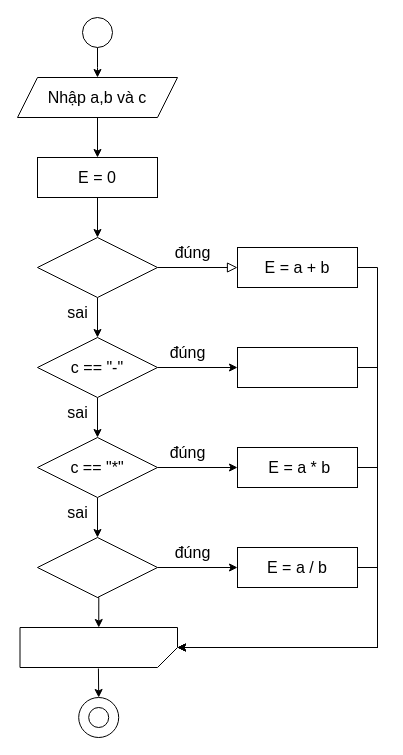
This 403x755 diagram has some shape labels left out. The shapes that lost their labels are listed below. From the top down, each one's box as (x1, y1, x2, y2) in pixels, then its label:
(36, 236, 158, 298): c == "+"
(236, 346, 358, 388): E = a - b
(36, 536, 158, 598): c == "/"
(19, 626, 178, 668): Xuất E
